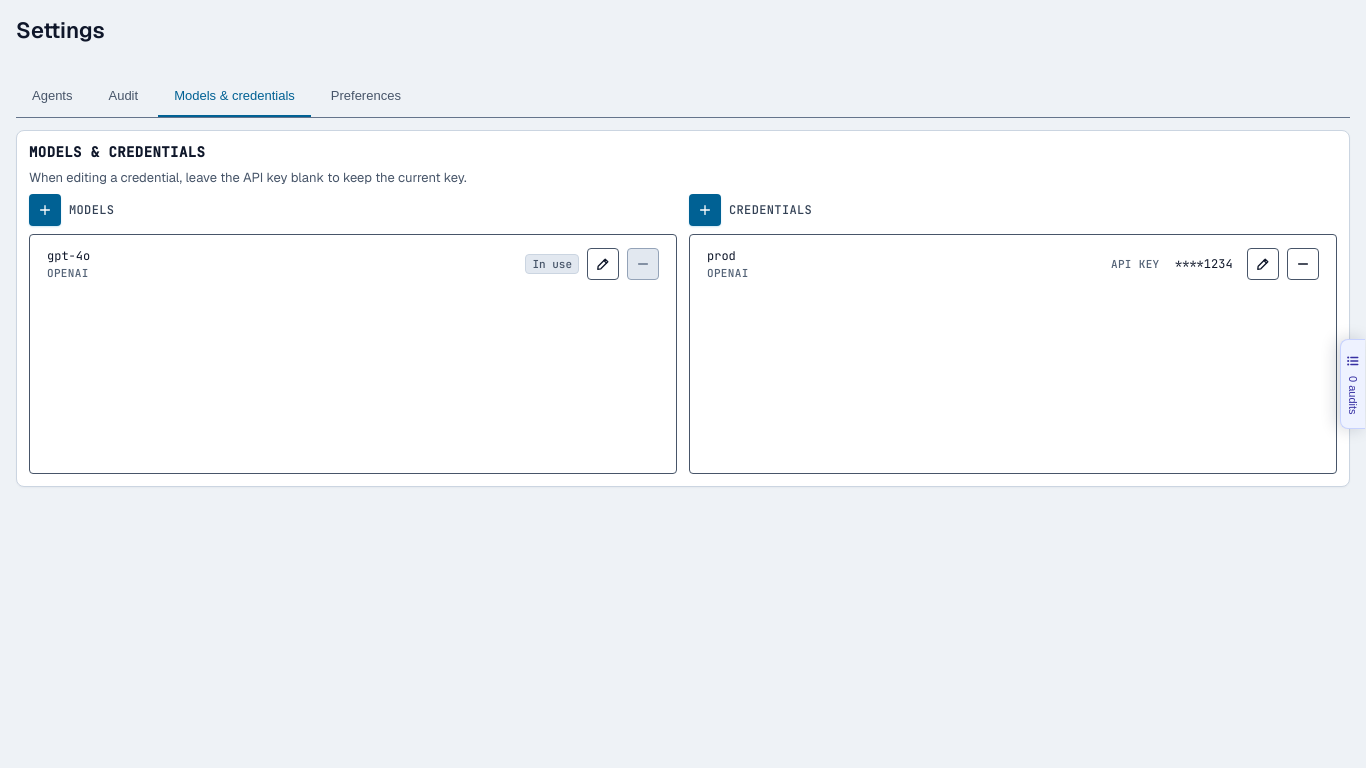
Test: SettingsPage › registers a model toasting success
The width and height of the screenshot is (1366, 768).
Expected: the option "gpt-4o OpenAI In use" is shown, [34,239,672,288]
Click the button named "Add model" at (45,210), box [29,194,61,226]
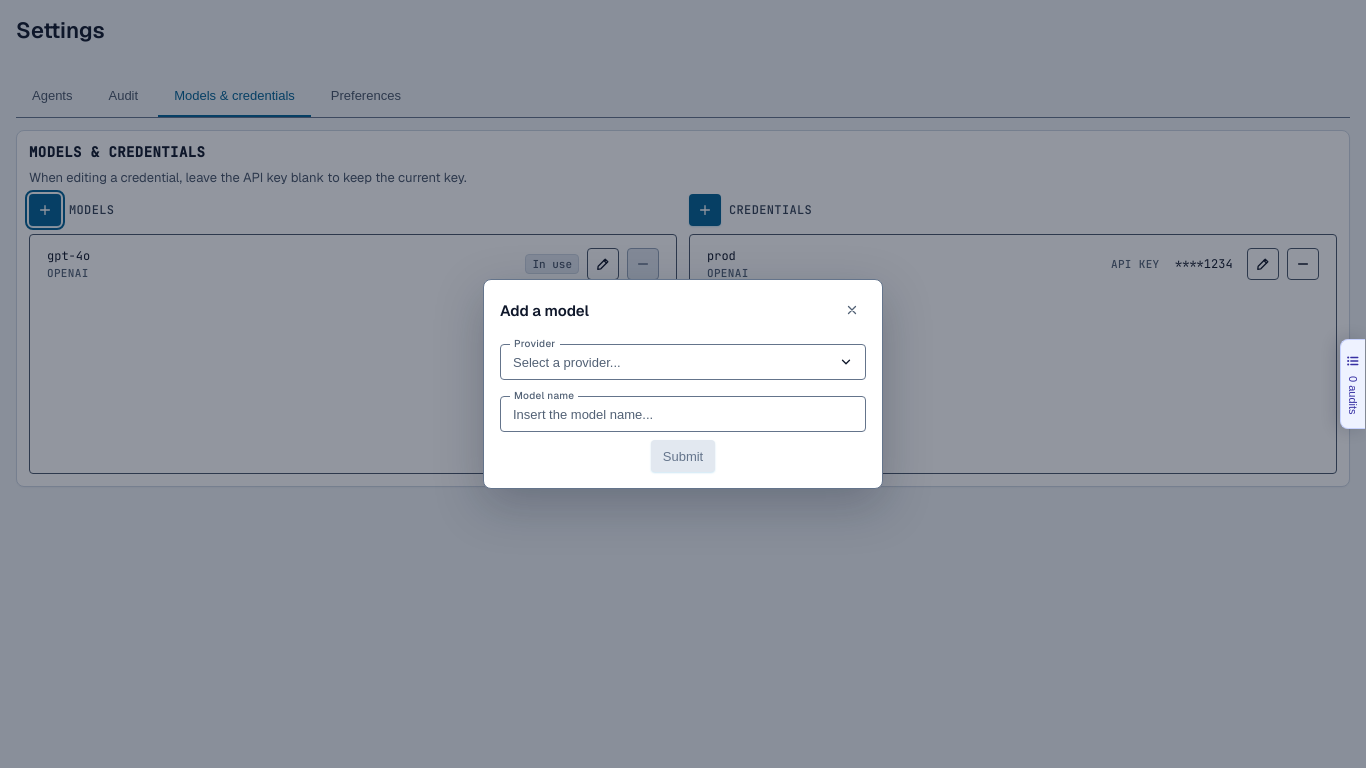
Click the button "Select a provider..." at (567,362), box [500,344,866,380]
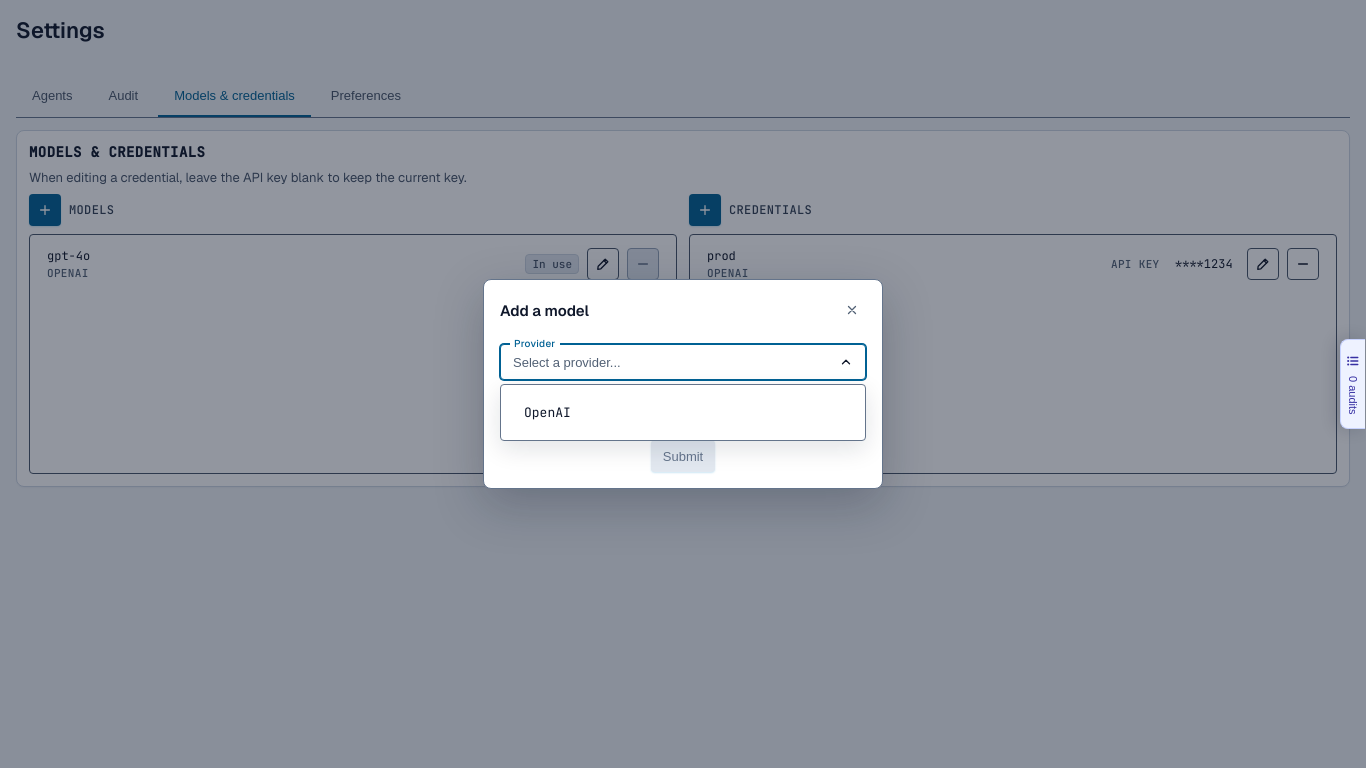
Click the option "OpenAI" at (547,412), box [511,395,855,430]
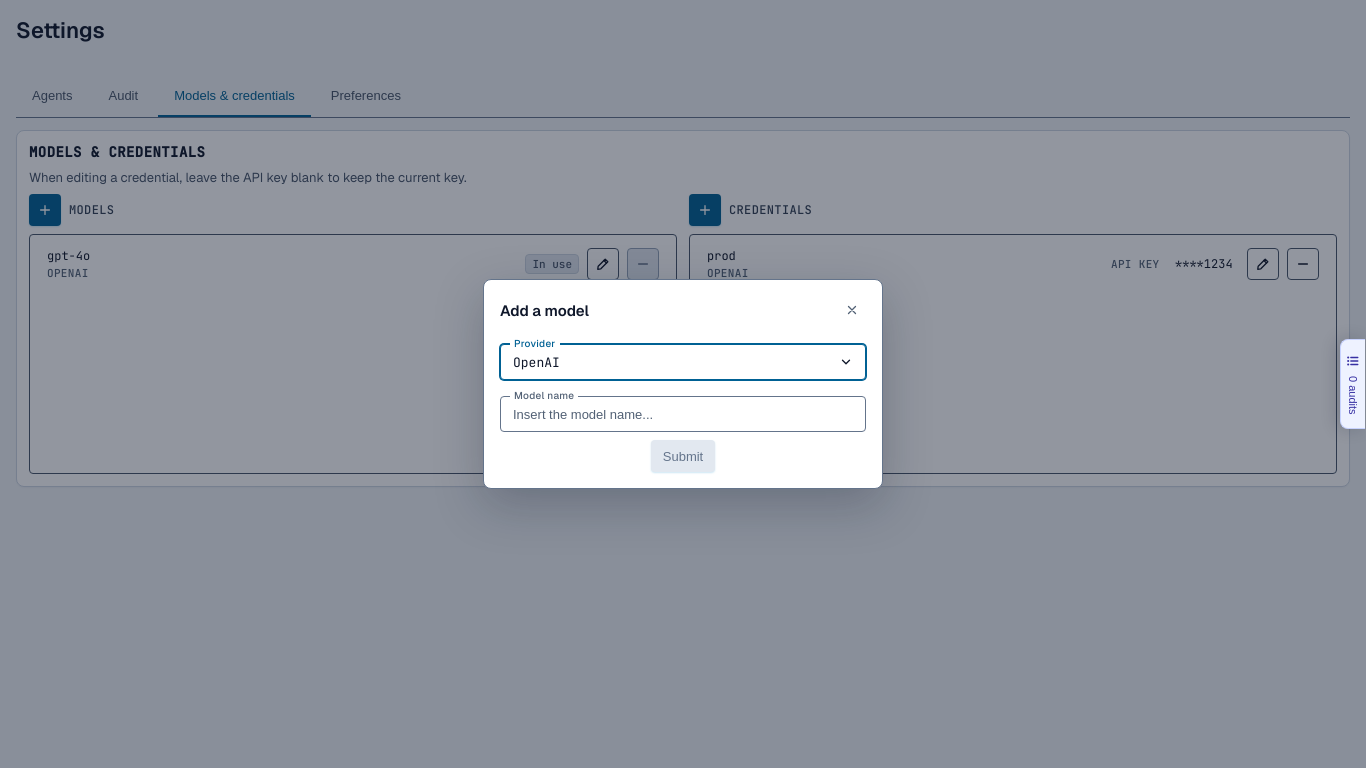
Type "o1" into the field with placeholder "Insert the model name..." at (683,414), box [500,396,866,432]
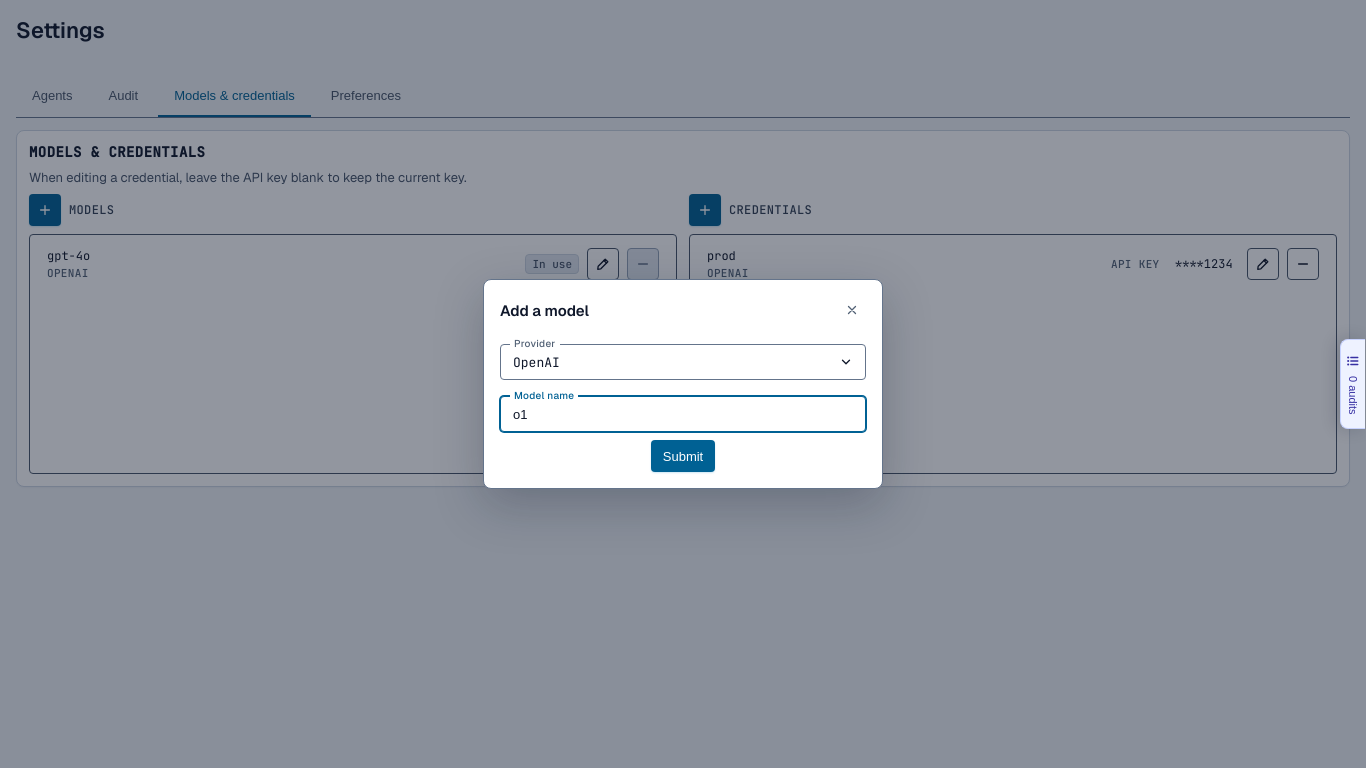
Click the button "Submit" at (683,456), box [651,440,715,472]
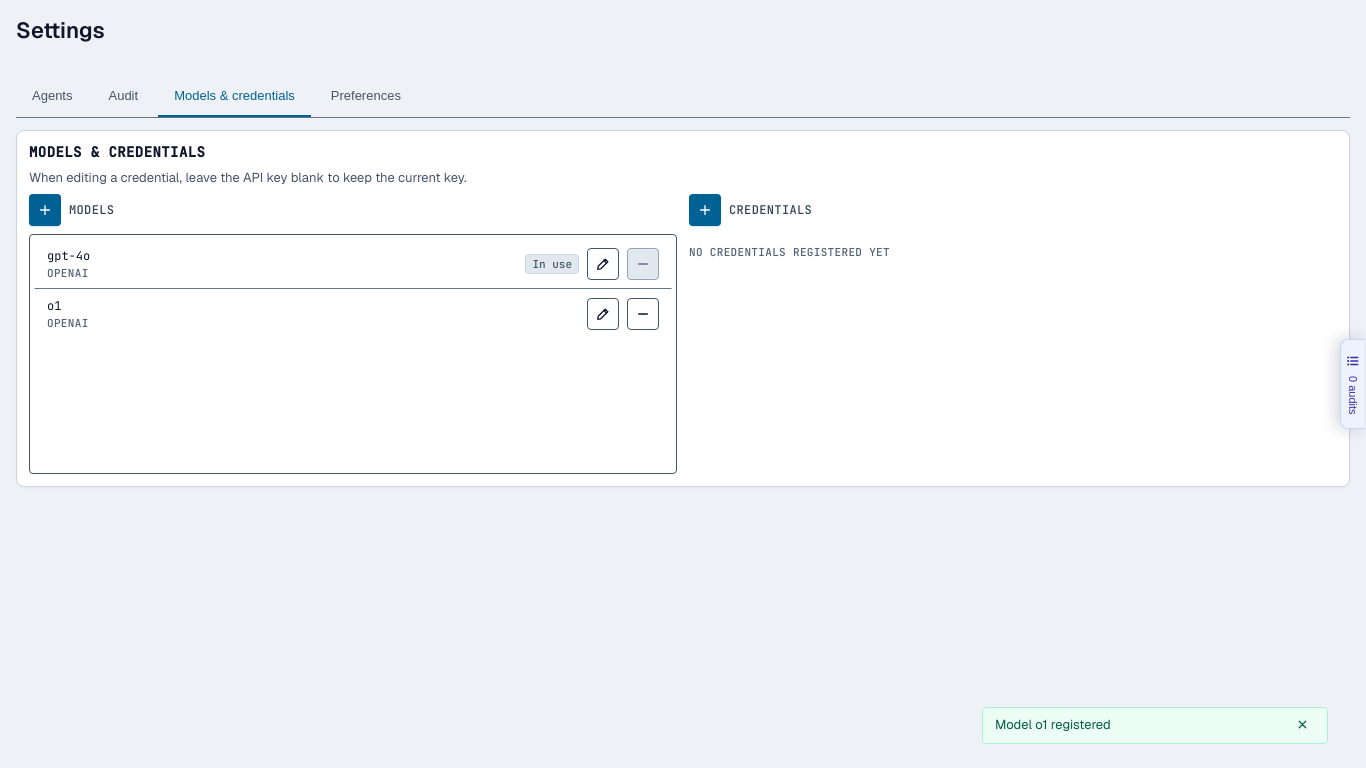
Expected: the option "o1 OpenAI" is shown, [34,289,672,338]
Expected: the dialog is gone
Expected: the text "Model o1 registered" is shown, [995,716,1111,733]
